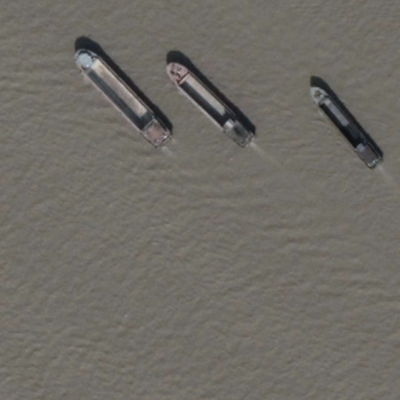boat: (70, 46, 173, 150), (162, 58, 257, 150), (307, 81, 385, 171)
